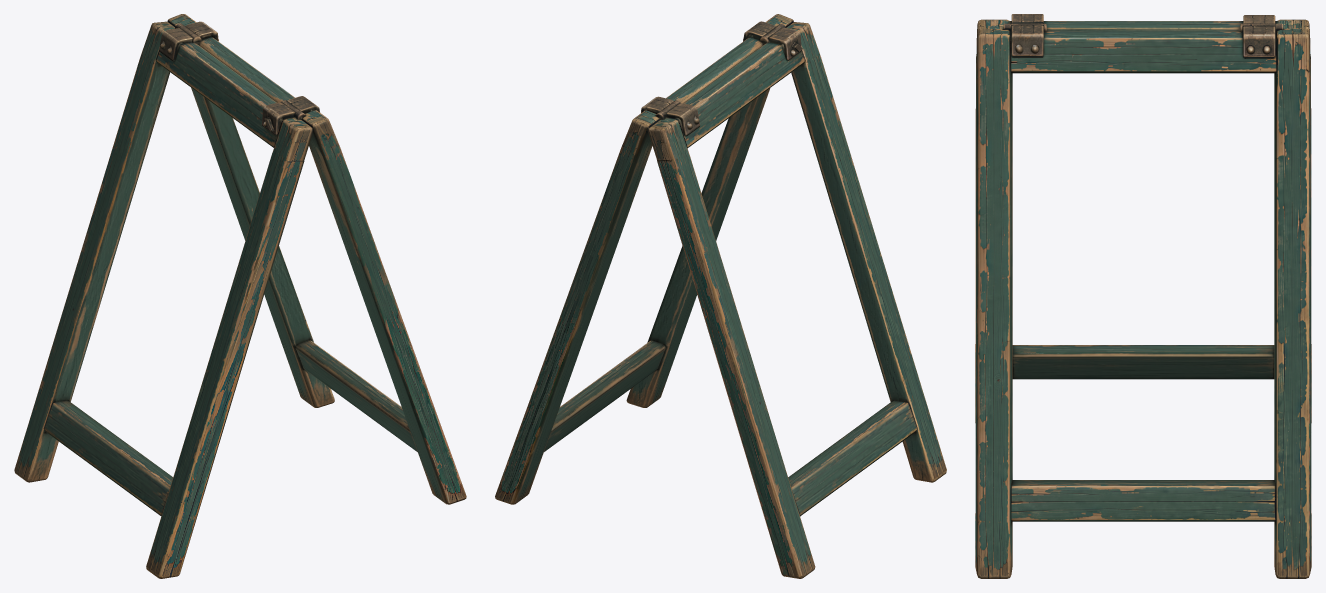
Rendered from P12_menu_a_board_source.fbx.
3 views of the same model, side by side, from view 1: azimuth 30°, elevation 25°; view 2: azimuth 150°, elevation 25°; view 3: azimuth 270°, elevation 25° (orthographic). The views are drawn at different scales.
Visible parts, largest first — view 1: b1bd0b98_fea0_4b48_bdd6_60bf208bf258; view 2: b1bd0b98_fea0_4b48_bdd6_60bf208bf258; view 3: b1bd0b98_fea0_4b48_bdd6_60bf208bf258.
Boxes of the visible parts, x1=… form: b1bd0b98_fea0_4b48_bdd6_60bf208bf258: x1=14, y1=14, x2=466, y2=578; b1bd0b98_fea0_4b48_bdd6_60bf208bf258: x1=495, y1=14, x2=946, y2=578; b1bd0b98_fea0_4b48_bdd6_60bf208bf258: x1=975, y1=14, x2=1311, y2=578.
Size of the model in its own units: 0.7632 by 0.9995 by 0.6362.
Materials: 1 (1 with a texture image).
